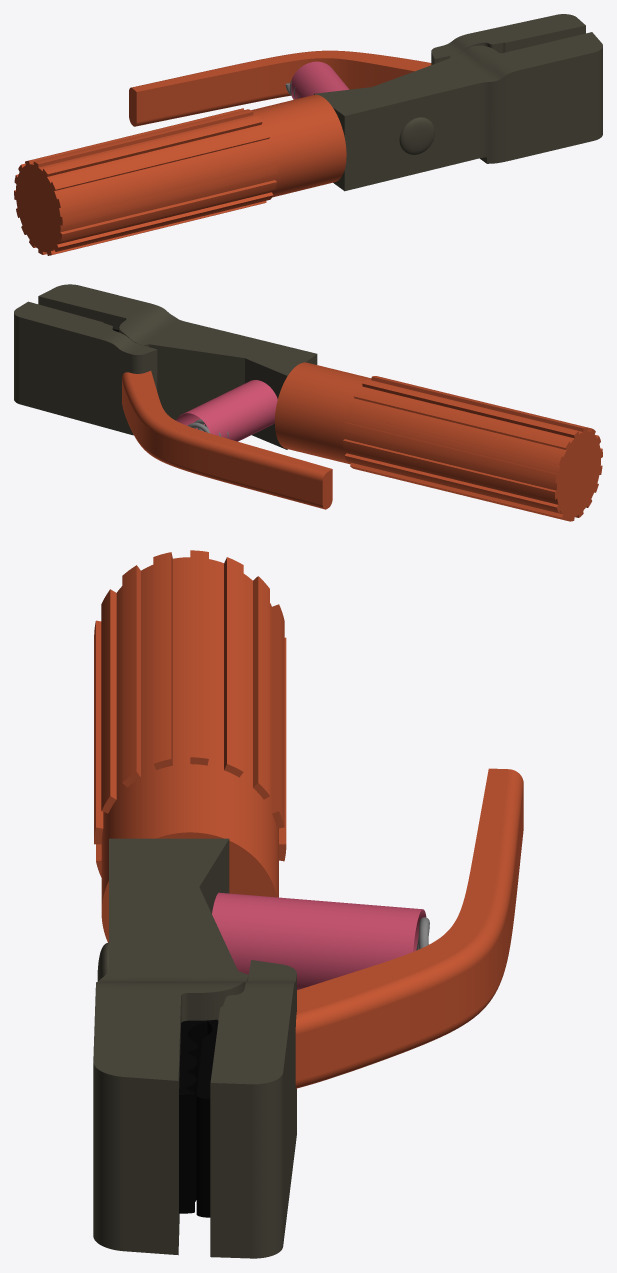
3 renders of one model, top to bottom at view 1: azimuth 30°, elevation 25°; view 2: azimuth 150°, elevation 25°; view 3: azimuth 270°, elevation 25°, orthographic. The views are drawn at different scales.
Visible parts, largest first — view 1: 物件_39, 物件_20, 物件_72, 物件_6, 物件_75, 物件_34, 物件_36, 物件_35, 物件_11, 物件_37, 物件_33, 物件_38 (+9 smaller); view 2: 物件_39, 物件_75, 物件_20, 物件_9, 物件_78, 物件_72, 物件_13, 物件_25, 物件_23, 物件_24, 物件_26, 物件_11 (+8 smaller); view 3: 物件_39, 物件_72, 物件_75, 物件_20, 物件_78, 物件_9, 物件_11, 物件_13, 物件_37, 物件_23, 物件_38, 物件_36 (+9 smaller).
Boxes of the visible parts, <box> form: 物件_39: <box>16,94,346,252</box>; 物件_20: <box>314,56,486,191</box>; 物件_72: <box>480,32,602,163</box>; 物件_6: <box>136,58,413,121</box>; 物件_75: <box>431,14,585,64</box>; 物件_34: <box>61,164,277,225</box>; 物件_36: <box>52,129,270,190</box>; 物件_35: <box>58,146,275,207</box>; 物件_11: <box>132,51,431,91</box>; 物件_37: <box>43,116,262,176</box>; 物件_33: <box>60,180,276,241</box>; 物件_38: <box>34,109,253,167</box>; 物件_39: <box>274,362,600,517</box>; 物件_75: <box>14,301,157,435</box>; 物件_20: <box>143,319,317,449</box>; 物件_9: <box>122,381,322,504</box>; 物件_78: <box>176,380,277,441</box>; 物件_72: <box>38,284,148,342</box>; 物件_13: <box>122,372,326,481</box>; 物件_25: <box>343,422,557,482</box>; 物件_23: <box>353,389,569,449</box>; 物件_24: <box>347,404,561,465</box>; 物件_26: <box>343,439,556,499</box>; 物件_11: <box>129,371,331,472</box>; 物件_39: <box>101,557,278,942</box>; 物件_72: <box>93,977,248,1255</box>; 物件_75: <box>210,974,296,1258</box>; 物件_20: <box>106,838,247,974</box>; 物件_78: <box>212,892,426,989</box>; 物件_9: <box>295,785,523,1080</box>; 物件_11: <box>296,768,508,1013</box>; 物件_13: <box>295,769,523,1034</box>; 物件_37: <box>153,552,172,764</box>; 物件_23: <box>224,557,243,771</box>; 物件_38: <box>190,550,208,758</box>; 物件_36: <box>122,565,140,782</box>.
Size of the model in its own units: 251 by 85.38 by 38.14.
